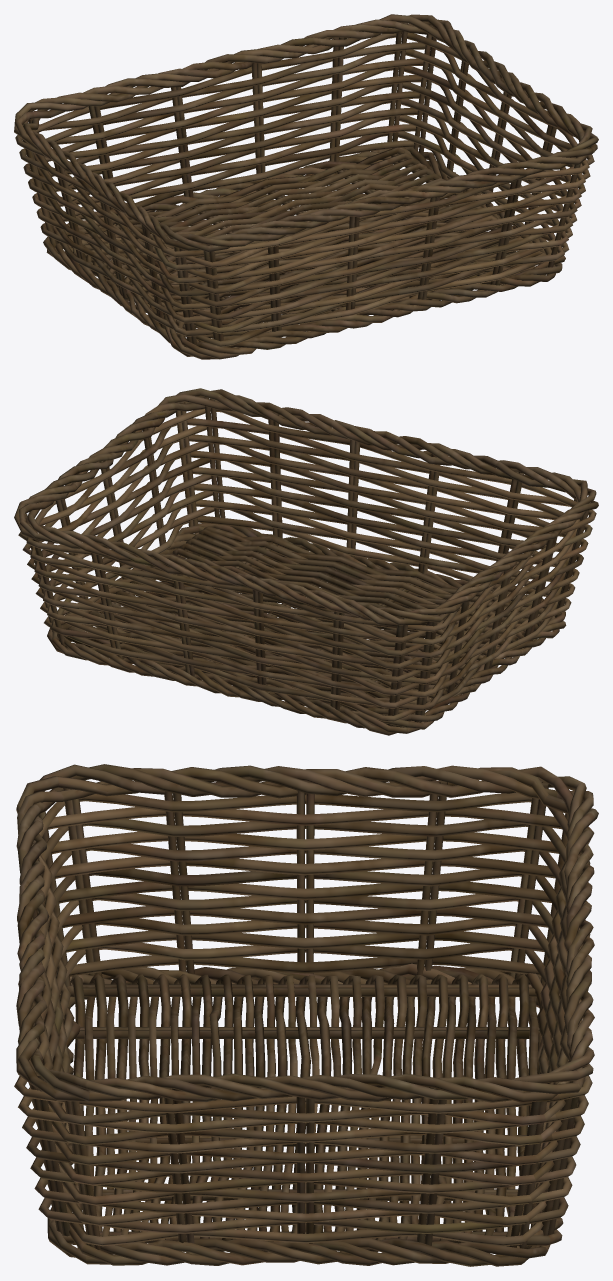
File: wicker_basket_01.glb
The picture shows the model from 3 angles, top to bottom: view 1: azimuth 30°, elevation 25°; view 2: azimuth 150°, elevation 25°; view 3: azimuth 270°, elevation 25°; orthographic projection. The views are drawn at different scales.
Parts seen in each view (by area): view 1: wicker_basket_01; view 2: wicker_basket_01; view 3: wicker_basket_01.
Part boxes in pixels (<box>): wicker_basket_01: <box>14,14,598,359</box>; wicker_basket_01: <box>14,388,598,735</box>; wicker_basket_01: <box>14,764,598,1266</box>.
Size of the model in its own units: 0.3832 by 0.1174 by 0.295.
Materials: 1 (1 with a texture image).
